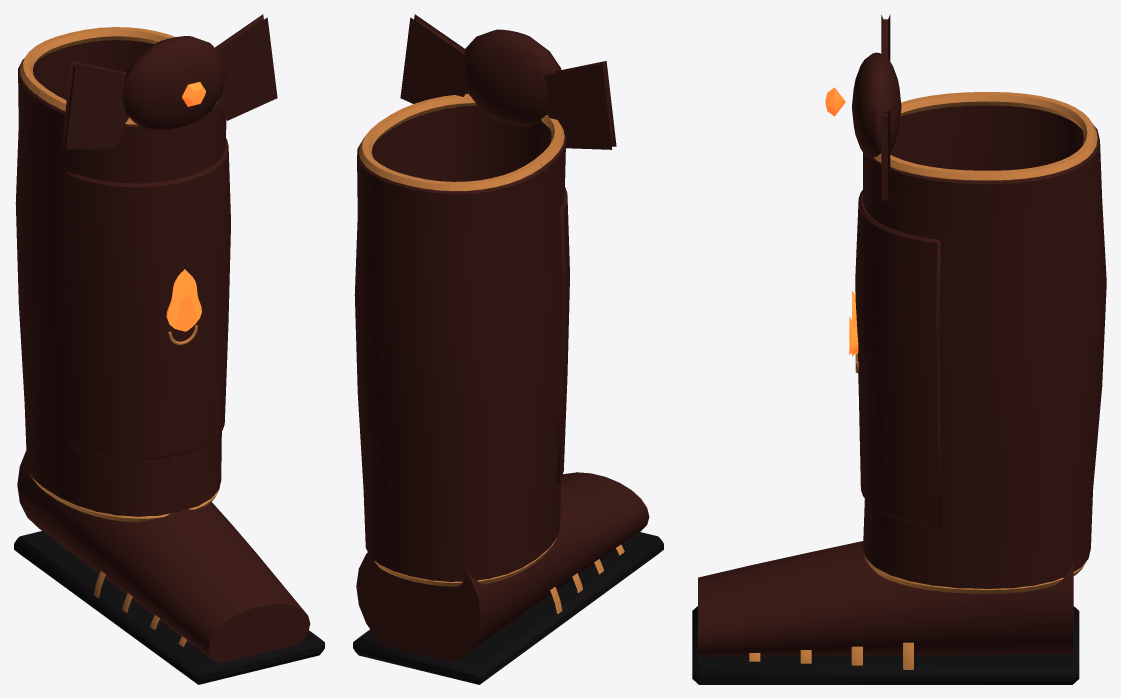
Rendered from asc_titanblood_champion_boots_R.glb.
The picture shows the model from 3 angles, left to right: view 1: azimuth 30°, elevation 25°; view 2: azimuth 150°, elevation 25°; view 3: azimuth 270°, elevation 25°; orthographic projection. The views are drawn at different scales.
Visible parts, largest first — view 1: asc_titanblood_champion_boots, AT_foot_R; view 2: asc_titanblood_champion_boots, AT_foot_R; view 3: asc_titanblood_champion_boots, AT_foot_R.
Boxes of the visible parts, x1=… form: asc_titanblood_champion_boots: x1=15, y1=14, x2=277, y2=522; AT_foot_R: x1=14, y1=451, x2=324, y2=684; asc_titanblood_champion_boots: x1=354, y1=14, x2=616, y2=586; AT_foot_R: x1=353, y1=472, x2=663, y2=684; asc_titanblood_champion_boots: x1=825, y1=14, x2=1106, y2=593; AT_foot_R: x1=692, y1=541, x2=1079, y2=684.
Bounding box in the file's own units: 0.2244 × 0.5768 × 0.3641.
